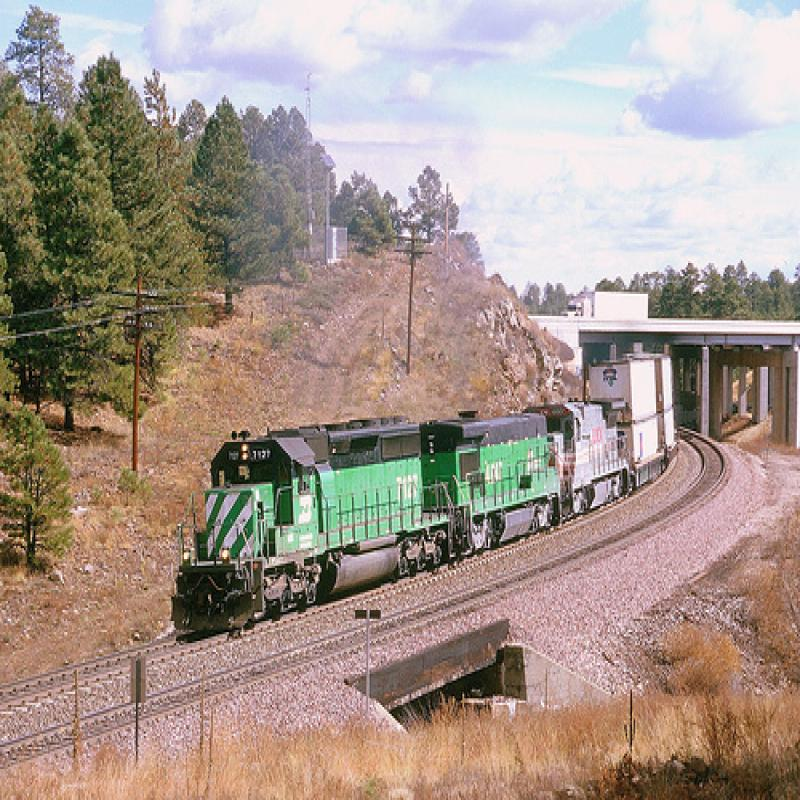train: (169, 346, 676, 640)
